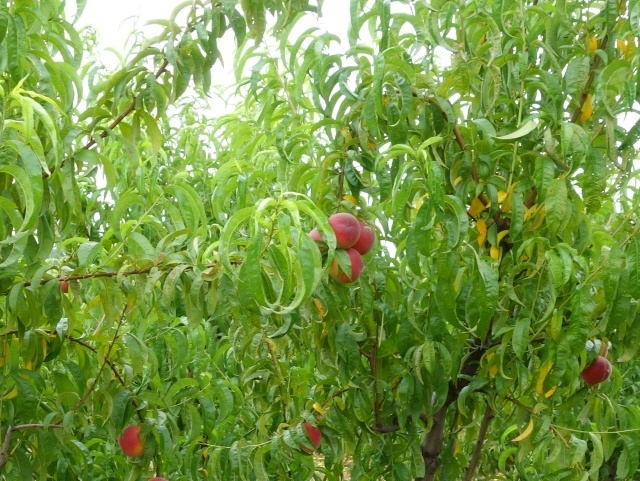peach: (116, 421, 157, 466), (323, 209, 364, 253), (327, 243, 367, 286), (578, 350, 615, 392), (296, 410, 327, 457), (350, 218, 379, 255), (304, 224, 335, 257)
